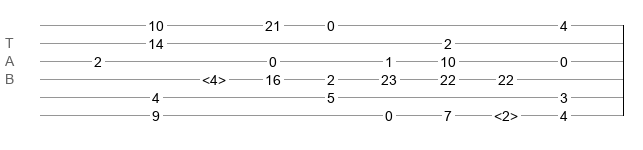0: (269, 54, 277, 64), (327, 18, 335, 28), (385, 108, 393, 118), (560, 54, 568, 64)
1: (385, 54, 393, 64)
10: (148, 18, 164, 28), (440, 54, 456, 64)
14: (148, 36, 164, 46)
16: (265, 72, 281, 82)
2: (94, 54, 102, 64), (327, 72, 335, 82), (444, 36, 452, 46)
21: (265, 18, 281, 28)
22: (440, 72, 456, 82), (498, 72, 514, 82)
23: (381, 72, 397, 82)
3: (560, 90, 568, 100)
4: (152, 90, 160, 100), (560, 108, 568, 118), (560, 18, 568, 28)
5: (327, 90, 335, 100)
7: (444, 108, 452, 118)
9: (152, 108, 160, 118)
harmonic: (202, 72, 226, 82), (494, 108, 518, 118)
